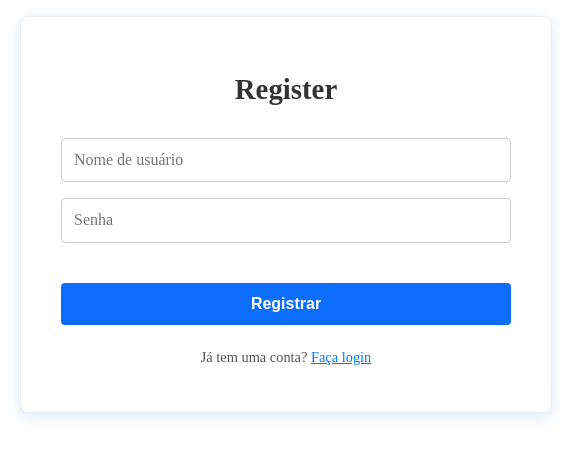
Test: Página Register › deve exibir mensagem de erro se o usuário já existir (erro 400)
Type "existinguser" into the field with placeholder "Nome de usuário".
click(286, 160); type("existinguser")  # box [61,138,511,182]
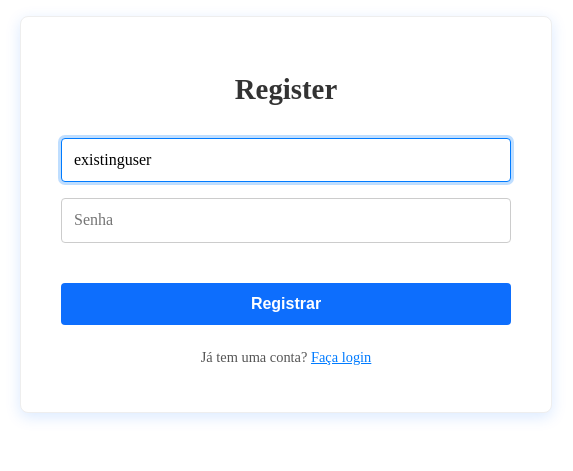
Type "anypassword" into the password field with placeholder "Senha".
click(286, 220); type("anypassword")  # box [61,198,511,243]
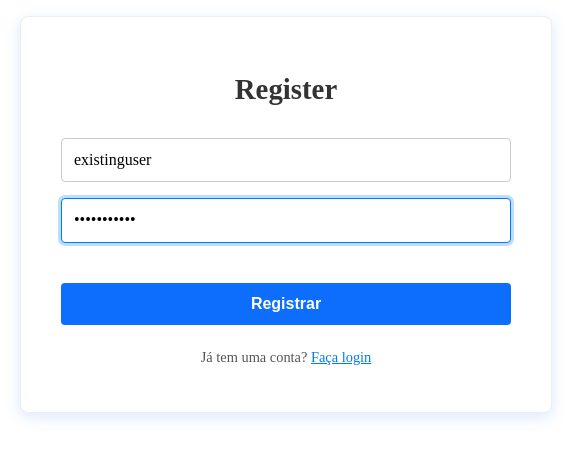
Click the button "Registrar".
click(286, 304)  # box [61,283,511,325]
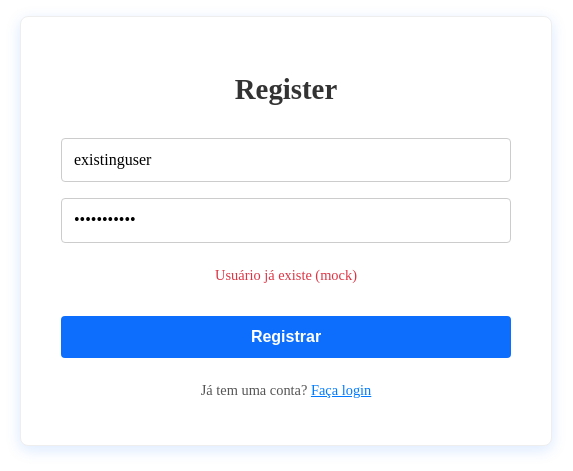
Check: the text "Usuário já existe (mock)" is shown, box [215,267,357,283]
